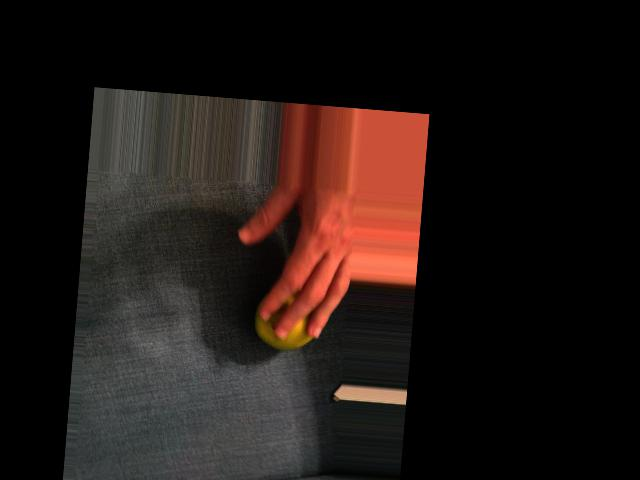apple: (245, 276, 324, 364)
